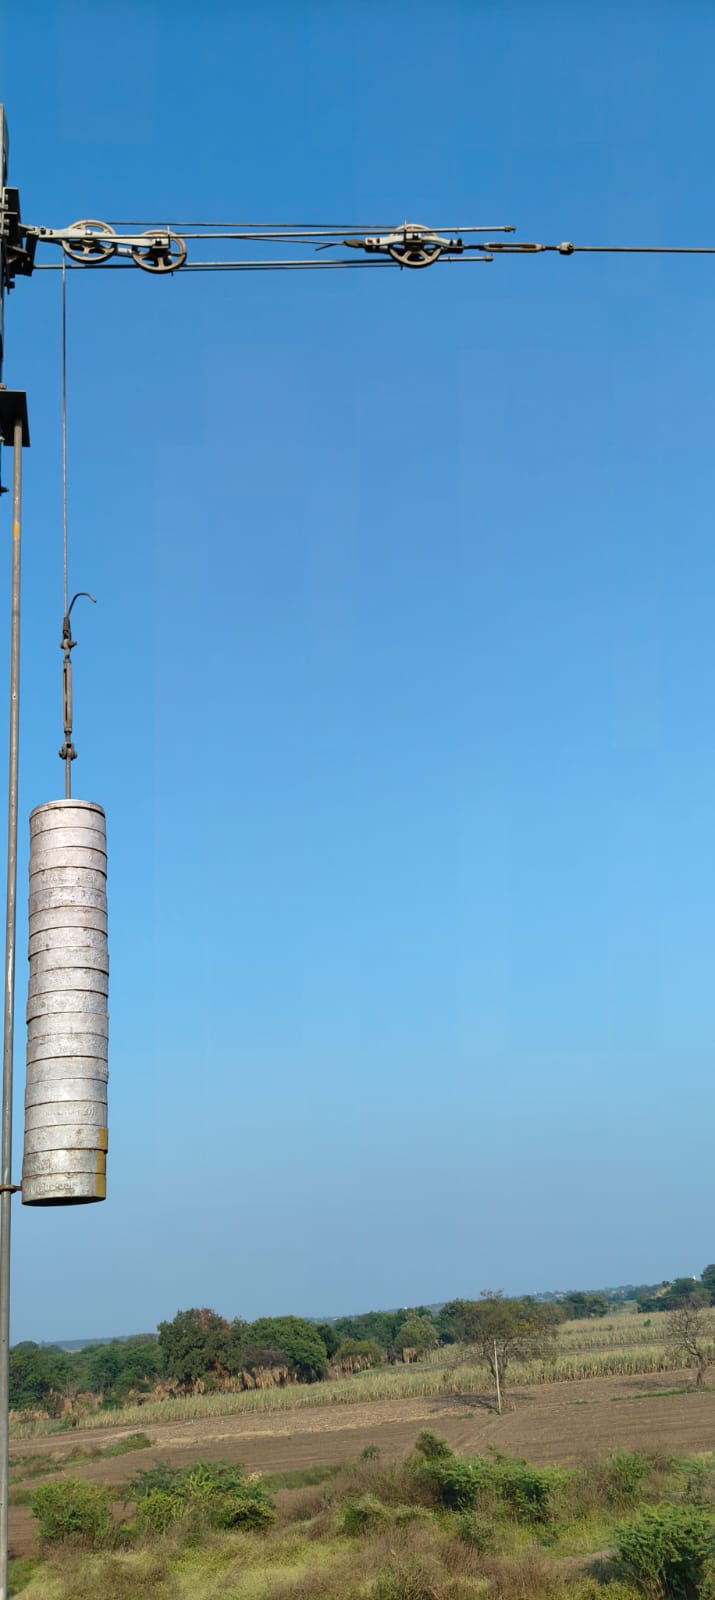Pulley: (53, 213, 126, 276), (381, 211, 451, 266), (131, 221, 193, 278)
objectA: (17, 774, 138, 1222)
